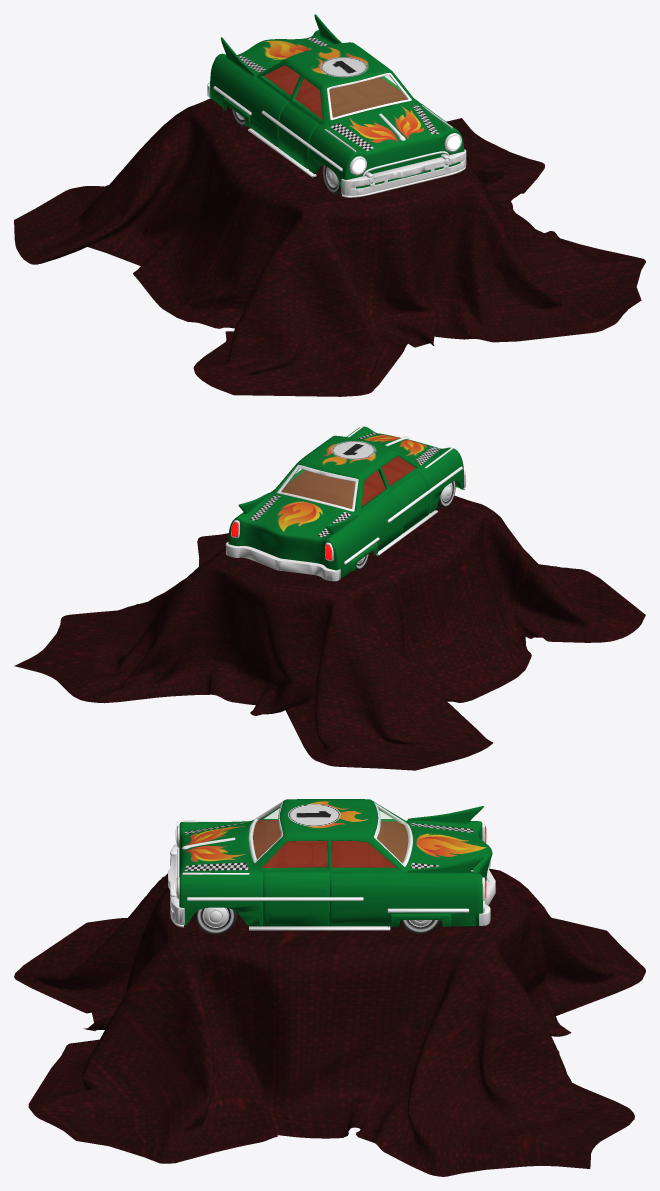
The model's file is car.glb.
3 renders of one model, top to bottom at view 1: azimuth 30°, elevation 25°; view 2: azimuth 150°, elevation 25°; view 3: azimuth 270°, elevation 25°, orthographic. The views are drawn at different scales.
Parts seen in each view (by area): view 1: Fabric, ToyCar, Glass; view 2: Fabric, ToyCar, Glass; view 3: Fabric, ToyCar, Glass.
Boxes of the visible parts, box(x1,y1,x2,y2) form: Fabric: box(14, 98, 645, 396); ToyCar: box(207, 14, 466, 197); Glass: box(329, 75, 407, 116); Fabric: box(14, 495, 645, 770); ToyCar: box(225, 425, 465, 581); Glass: box(282, 468, 354, 508); Fabric: box(14, 868, 645, 1176); ToyCar: box(168, 799, 495, 934); Glass: box(252, 806, 409, 862).
Bounding box in the file's own units: 0.0734 × 0.0288 × 0.074.
3 materials, 2 textured.
